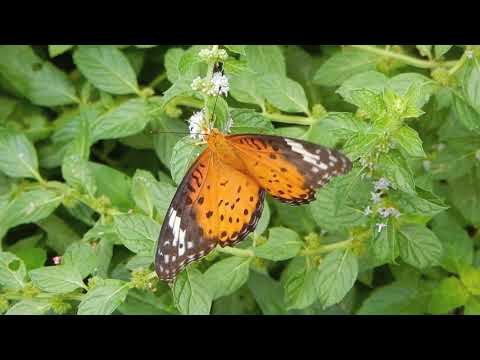Argyreus hyperbius: (149, 65, 360, 277)
butterfly: (151, 67, 362, 279)
